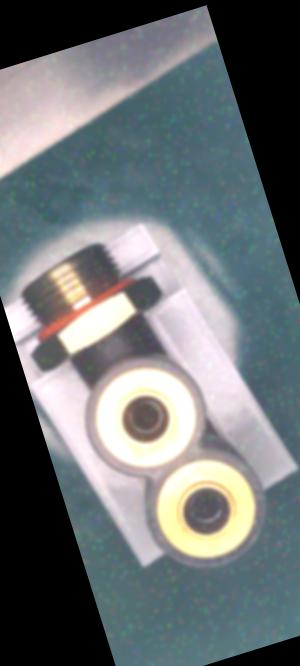craze: (89, 328, 114, 353)
